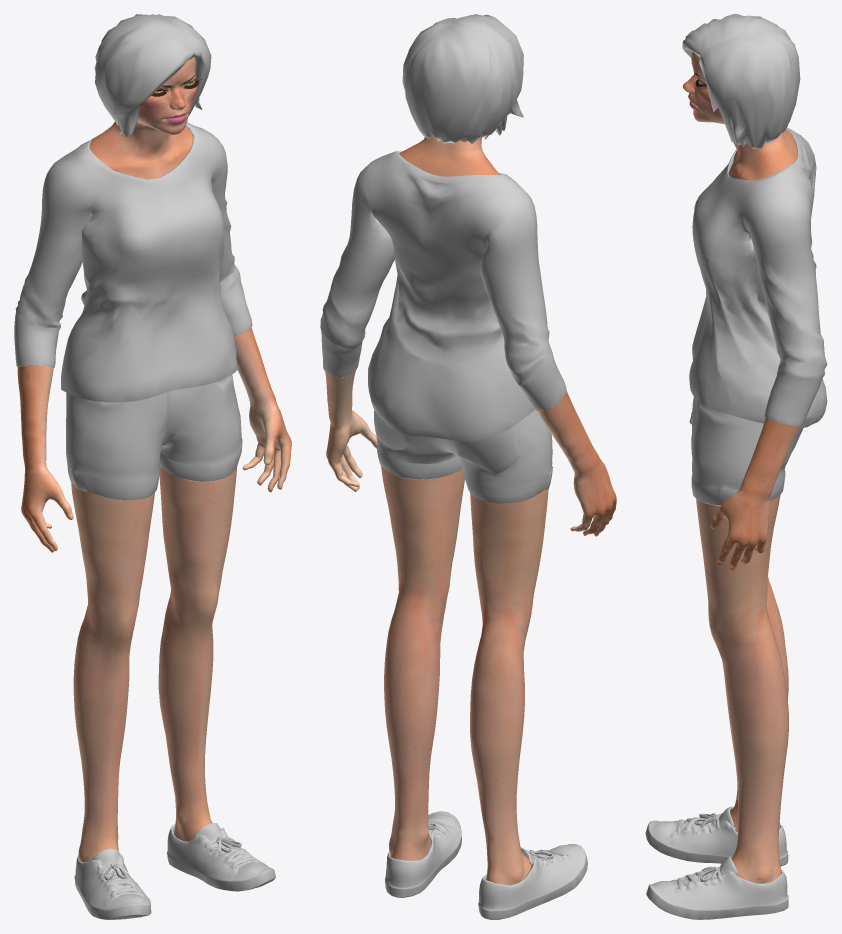
Rendered from bri.obj.
3 views of the same model, side by side, from view 1: azimuth 30°, elevation 25°; view 2: azimuth 150°, elevation 25°; view 3: azimuth 270°, elevation 25° (orthographic).
Visible parts, largest first — view 1: Bodymesh, Topsmesh, Bottomsmesh, Hairmesh, Shoesmesh; view 2: Topsmesh, Bodymesh, Hairmesh, Bottomsmesh, Shoesmesh; view 3: Topsmesh, Bodymesh, Hairmesh, Shoesmesh, Bottomsmesh.
Part boxes in pixels (<box>): Bodymesh: <box>17,58,291,862</box>; Topsmesh: <box>14,122,252,402</box>; Bottomsmesh: <box>66,374,242,500</box>; Hairmesh: <box>94,14,211,136</box>; Shoesmesh: <box>74,823,275,919</box>; Topsmesh: <box>320,151,566,441</box>; Bodymesh: <box>325,133,616,885</box>; Hairmesh: <box>402,14,523,143</box>; Bottomsmesh: <box>374,409,552,503</box>; Shoesmesh: <box>385,811,587,919</box>; Topsmesh: <box>689,127,827,428</box>; Bodymesh: <box>683,52,799,883</box>; Hairmesh: <box>682,14,800,148</box>; Shoesmesh: <box>645,806,788,919</box>; Bottomsmesh: <box>691,396,803,506</box>.
Bounding box in the file's own units: 63.16 × 191 × 36.62.
